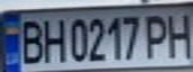0: (66, 15, 87, 63)
1: (106, 12, 124, 61)
2: (87, 14, 106, 62)
7: (121, 11, 145, 60)
B: (15, 16, 48, 65)
H: (163, 10, 193, 60), (39, 15, 69, 63)
P: (142, 11, 172, 60)
